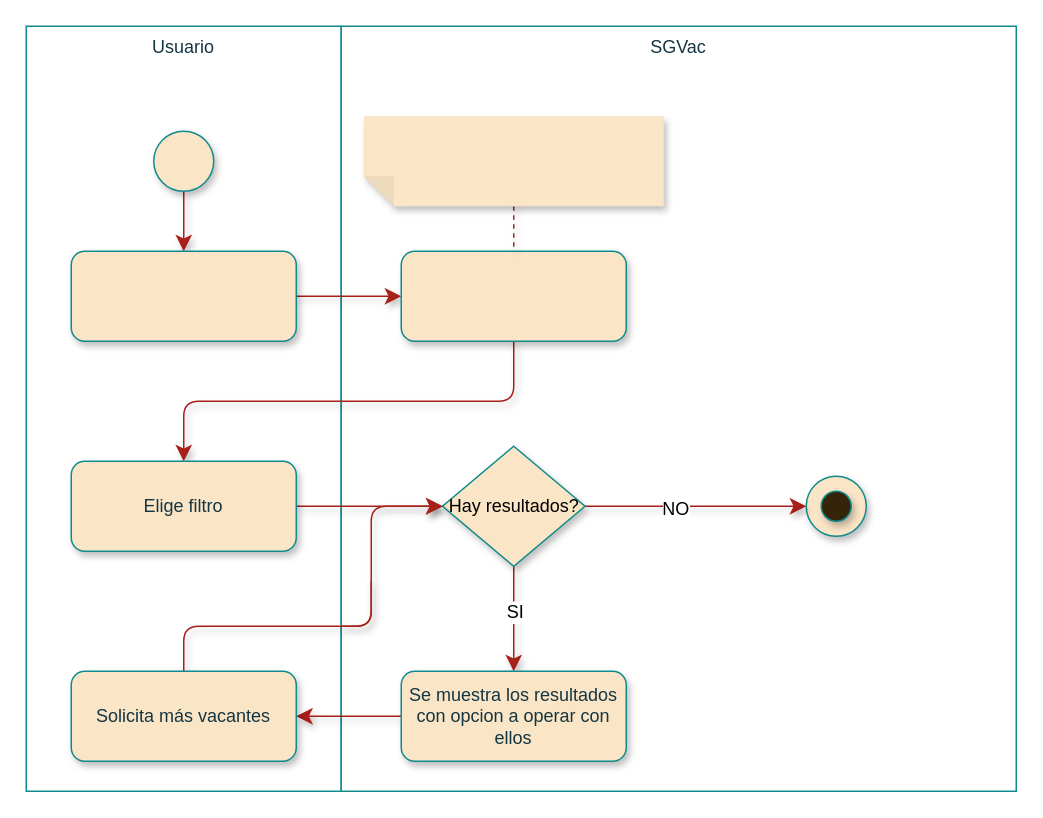
This 1043x818 diagram has some shape labels left out. Each missing label, with the centre of its shape:
Categoría y título de vacante: pixel 514 163
Elige la opción de listar vacantes: pixel 184 298
Lista vacantes y muestra formulario para filtro: pixel 514 298
